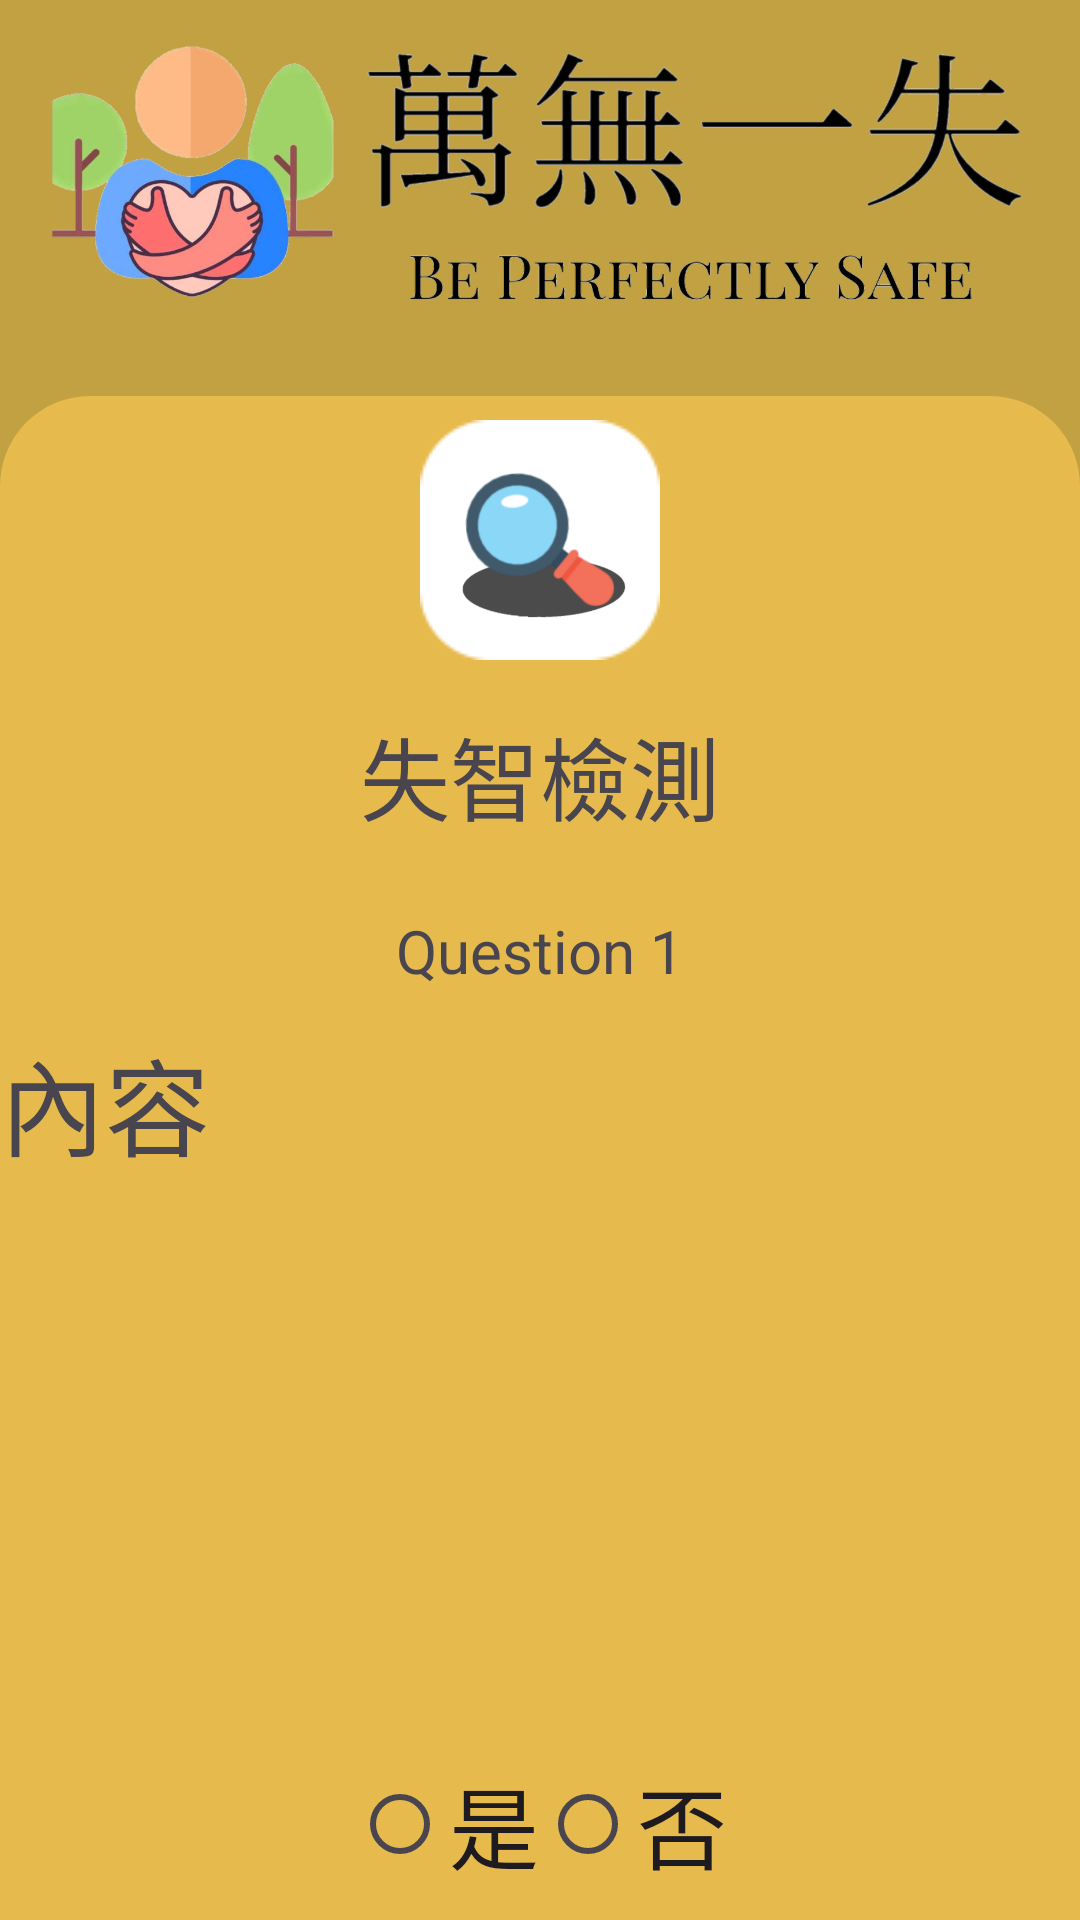

Icons on this 1080px x 1920px Android screen, each with the point to tap as [x,y]:
magnifier: [543,545]
